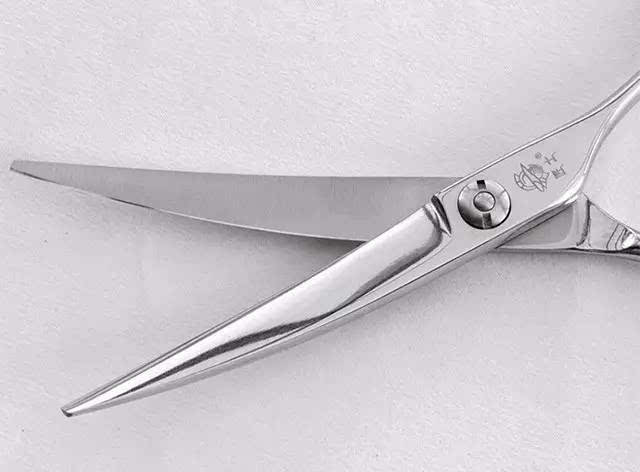scissor: (18, 76, 640, 392)
